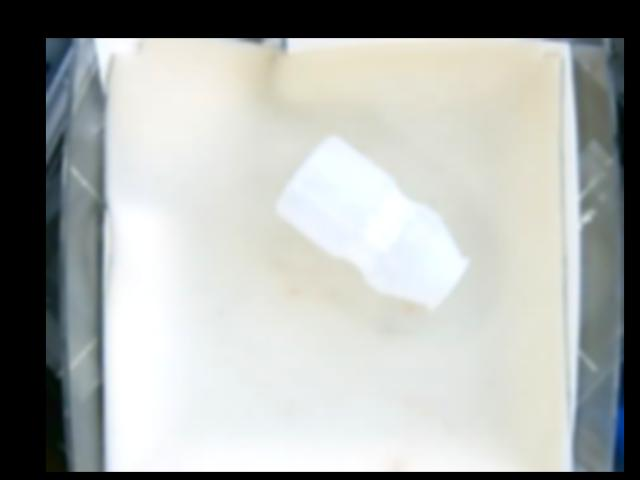Bottle: (274, 134, 471, 311)
